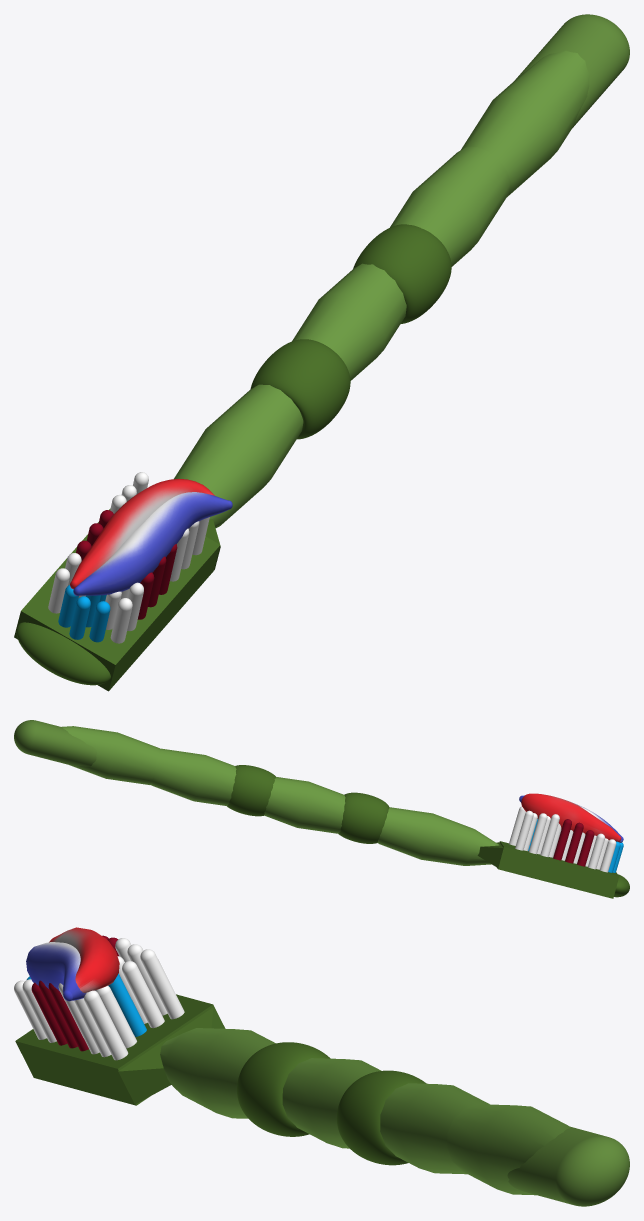
The model's file is toothbrush.glb.
3 views of the same model, one above another, from view 1: azimuth 30°, elevation 25°; view 2: azimuth 150°, elevation 25°; view 3: azimuth 270°, elevation 25° (orthographic). The views are drawn at different scales.
Parts seen in each view (by area): view 1: node_id261_66, node_id303_58, node_id39_52, node_id212_62, node_id69_60, node_id219_56, node_id170_65, node_id136_64; view 2: node_id261_66, node_id303_58, node_id212_62, node_id170_65, node_id39_52, node_id127_54, node_id225_61, node_id69_60; view 3: node_id261_66, node_id303_58, node_id212_62, node_id69_60, node_id39_52, node_id225_61, node_id170_65, node_id127_54, node_id136_64, node_id105_63.
Boxes of the visible parts, left/top/right/bottom form: node_id261_66: left=174, top=14, right=629, bottom=527; node_id303_58: left=250, top=224, right=451, bottom=439; node_id39_52: left=70, top=478, right=232, bottom=595; node_id212_62: left=14, top=508, right=220, bottom=691; node_id69_60: left=110, top=517, right=209, bottom=643; node_id219_56: left=16, top=622, right=110, bottom=685; node_id170_65: left=48, top=472, right=148, bottom=613; node_id136_64: left=89, top=589, right=129, bottom=642; node_id261_66: left=14, top=720, right=499, bottom=865; node_id303_58: left=227, top=765, right=389, bottom=843; node_id212_62: left=497, top=841, right=618, bottom=898; node_id170_65: left=515, top=810, right=616, bottom=872; node_id39_52: left=519, top=793, right=623, bottom=842; node_id127_54: left=523, top=813, right=620, bottom=872; node_id225_61: left=477, top=842, right=503, bottom=867; node_id69_60: left=509, top=806, right=525, bottom=845; node_id261_66: left=160, top=1028, right=629, bottom=1206; node_id303_58: left=237, top=1042, right=426, bottom=1165; node_id212_62: left=15, top=994, right=225, bottom=1105; node_id69_60: left=14, top=979, right=128, bottom=1060; node_id39_52: left=26, top=927, right=119, bottom=1001; node_id225_61: left=118, top=1007, right=223, bottom=1104; node_id170_65: left=102, top=935, right=184, bottom=1019; node_id127_54: left=117, top=956, right=164, bottom=1028; node_id136_64: left=26, top=976, right=136, bottom=1048; node_id105_63: left=108, top=973, right=146, bottom=1036.
Size of the model in its own units: 0.5746 by 0.2016 by 0.3402.
Materials: 26 (26 with a texture image).
